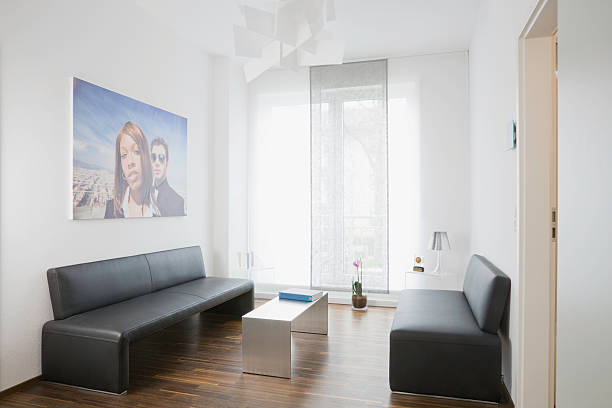flower vase: (348, 253, 372, 312)
sofa: (36, 243, 256, 399), (387, 252, 512, 404)
table: (240, 287, 330, 380)
table lamp: (424, 228, 454, 278)
wall art: (67, 70, 190, 219)
